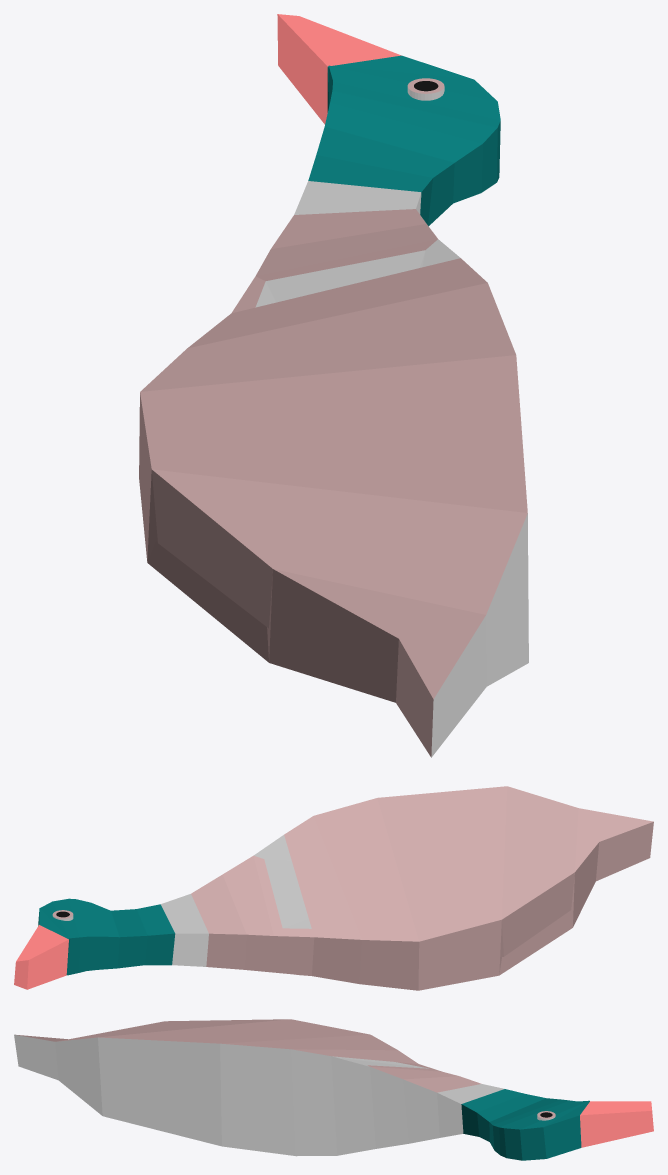
File: firstpartduck3.glb
3 renders of one model, top to bottom at view 1: azimuth 30°, elevation 25°; view 2: azimuth 150°, elevation 25°; view 3: azimuth 270°, elevation 25°, orthographic. The views are drawn at different scales.
Visible parts, largest first — view 1: Plane; view 2: Plane; view 3: Plane.
Boxes of the visible parts, x1=… form: Plane: x1=139, y1=14, x2=528, y2=757; Plane: x1=14, y1=786, x2=653, y2=990; Plane: x1=14, y1=1019, x2=653, y2=1160.
Bounding box in the file's own units: 6.66 × 2.35 × 12.7.
